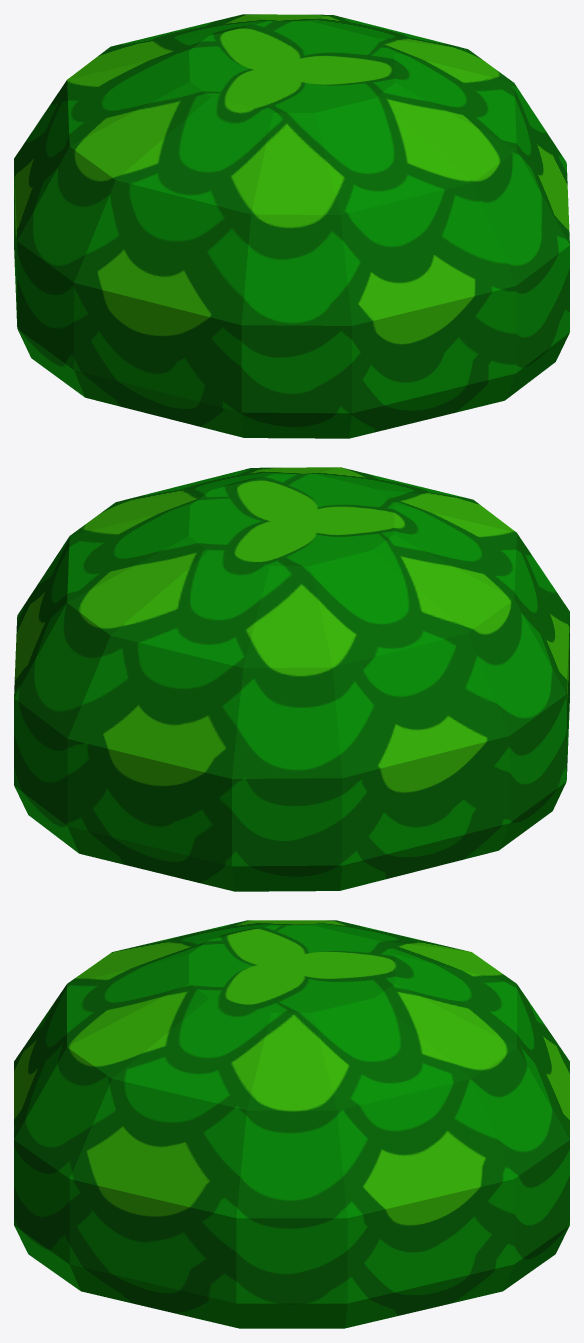
Rendered from Bush_01.fbx.
The picture shows the model from 3 angles, top to bottom: view 1: azimuth 30°, elevation 25°; view 2: azimuth 150°, elevation 25°; view 3: azimuth 270°, elevation 25°; orthographic projection. The views are drawn at different scales.
Visible parts, largest first — view 1: Bush; view 2: Bush; view 3: Bush.
Part boxes in pixels (bbox=[...]): Bush: bbox=[14, 14, 569, 438]; Bush: bbox=[14, 467, 569, 891]; Bush: bbox=[14, 920, 569, 1328].
Size of the model in its own units: 130 by 64 by 130.
1 material, 1 textured.
